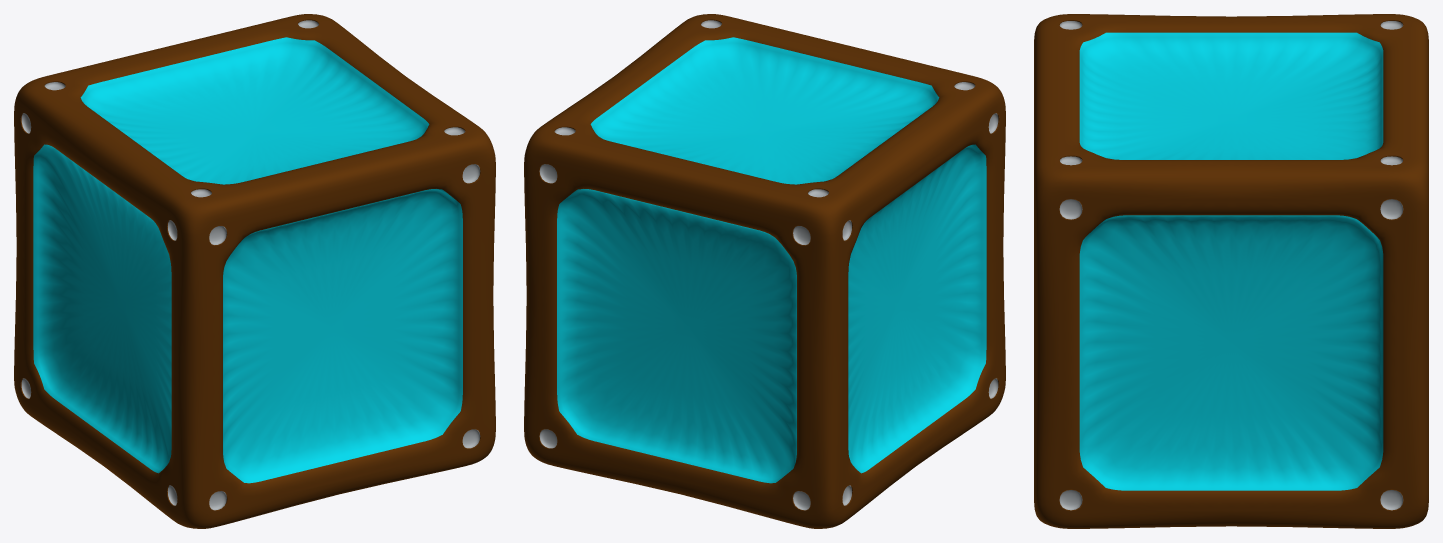
Rendered from Blue.fbx.
The picture shows the model from 3 angles, left to right: view 1: azimuth 30°, elevation 25°; view 2: azimuth 150°, elevation 25°; view 3: azimuth 270°, elevation 25°; orthographic projection. The views are drawn at different scales.
Visible parts, largest first — view 1: Cube; view 2: Cube; view 3: Cube.
Boxes of the visible parts, box(x1,y1,x2,y2) form: Cube: box(14, 14, 495, 528); Cube: box(524, 14, 1005, 528); Cube: box(1034, 14, 1428, 528).
Size of the model in its own units: 200 by 200 by 200.
